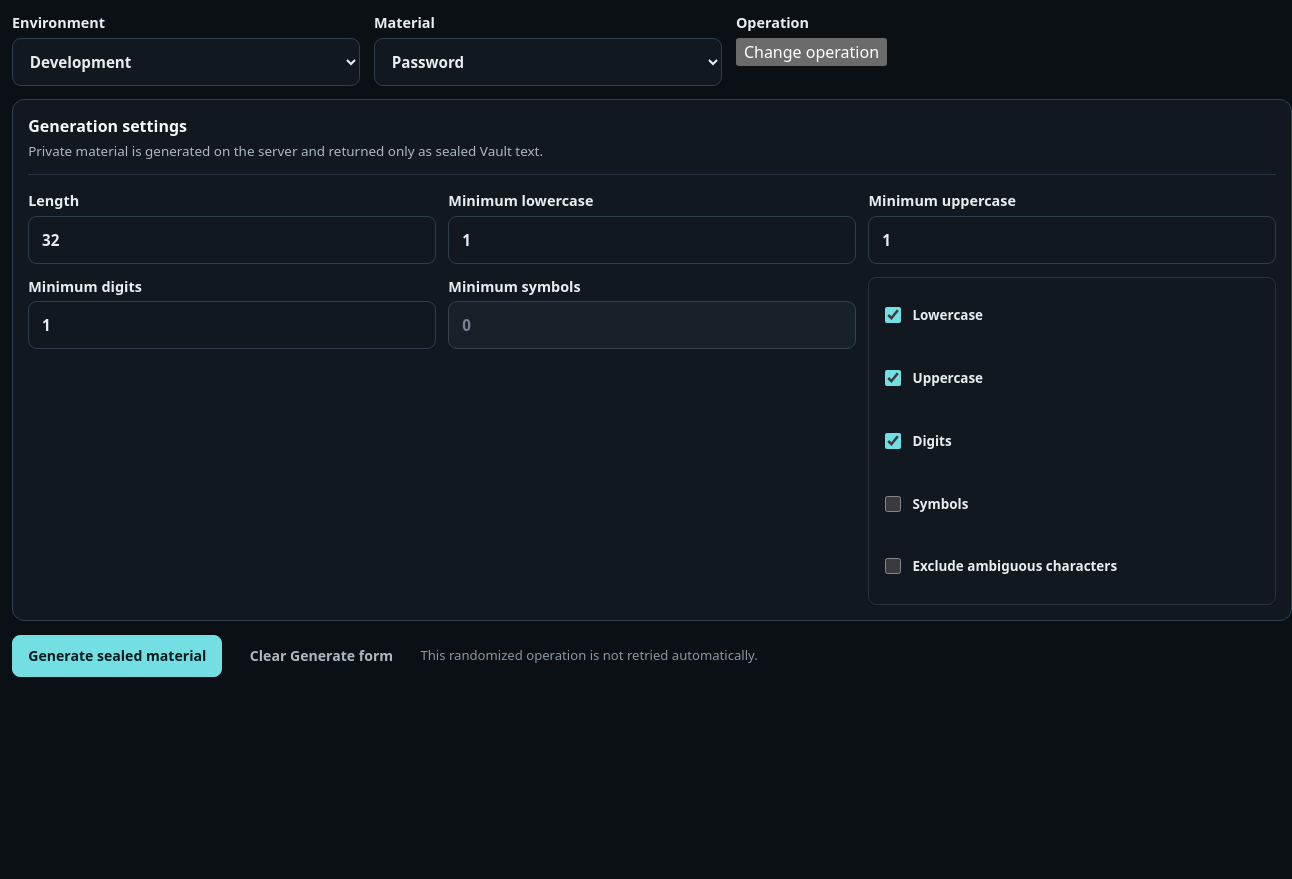
Test: Generate workbench › copies only the sealed password value as an Ansible snippet
Expected: the field labelled "Ansible variable name" is not shown
Step 1. Select "Password" in the dropdown labelled "Material" → (548, 62), box x1=374 y1=38 x2=722 y2=86
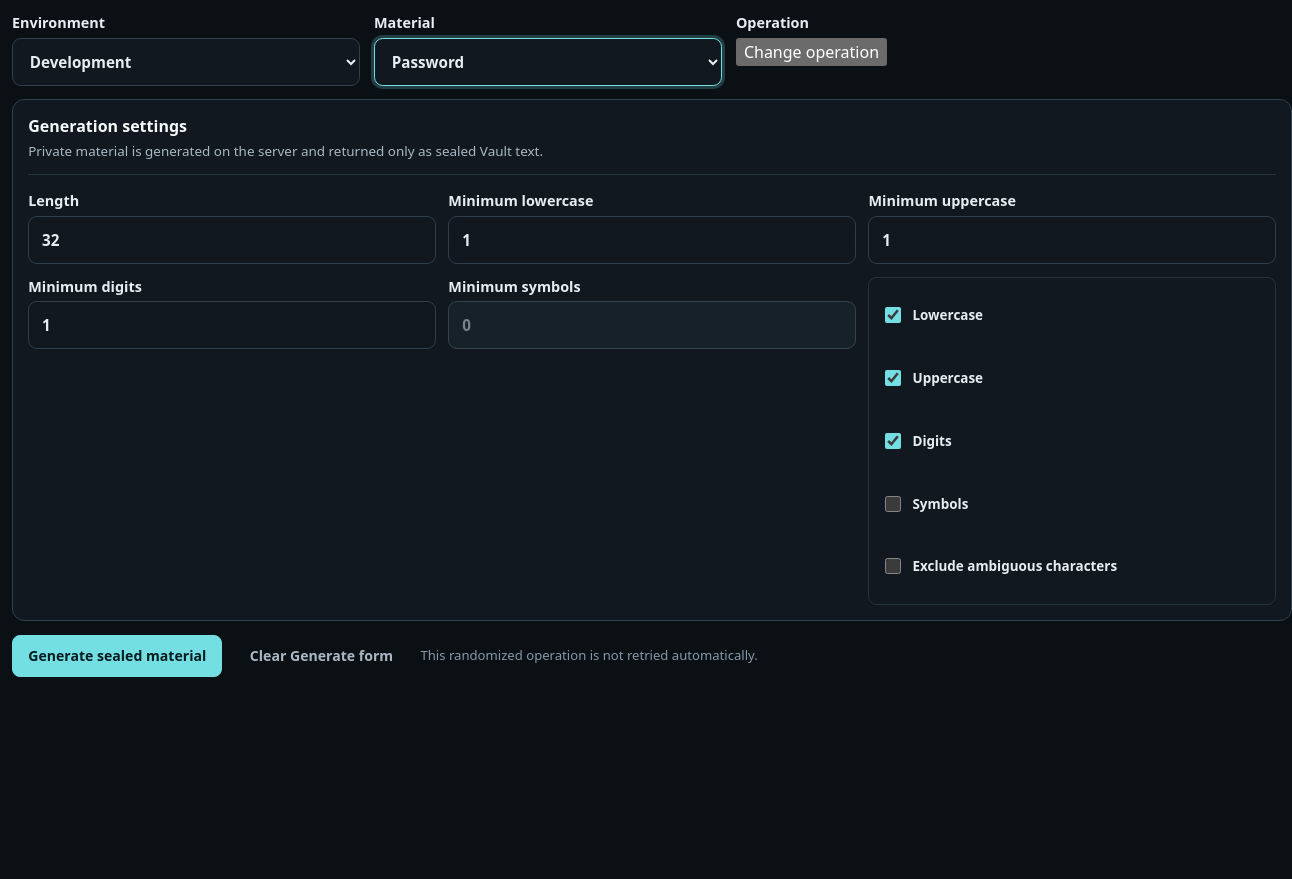
Step 2. Click the button "Generate sealed material" → click(117, 656), box x1=12 y1=635 x2=222 y2=677
(page scrolled)
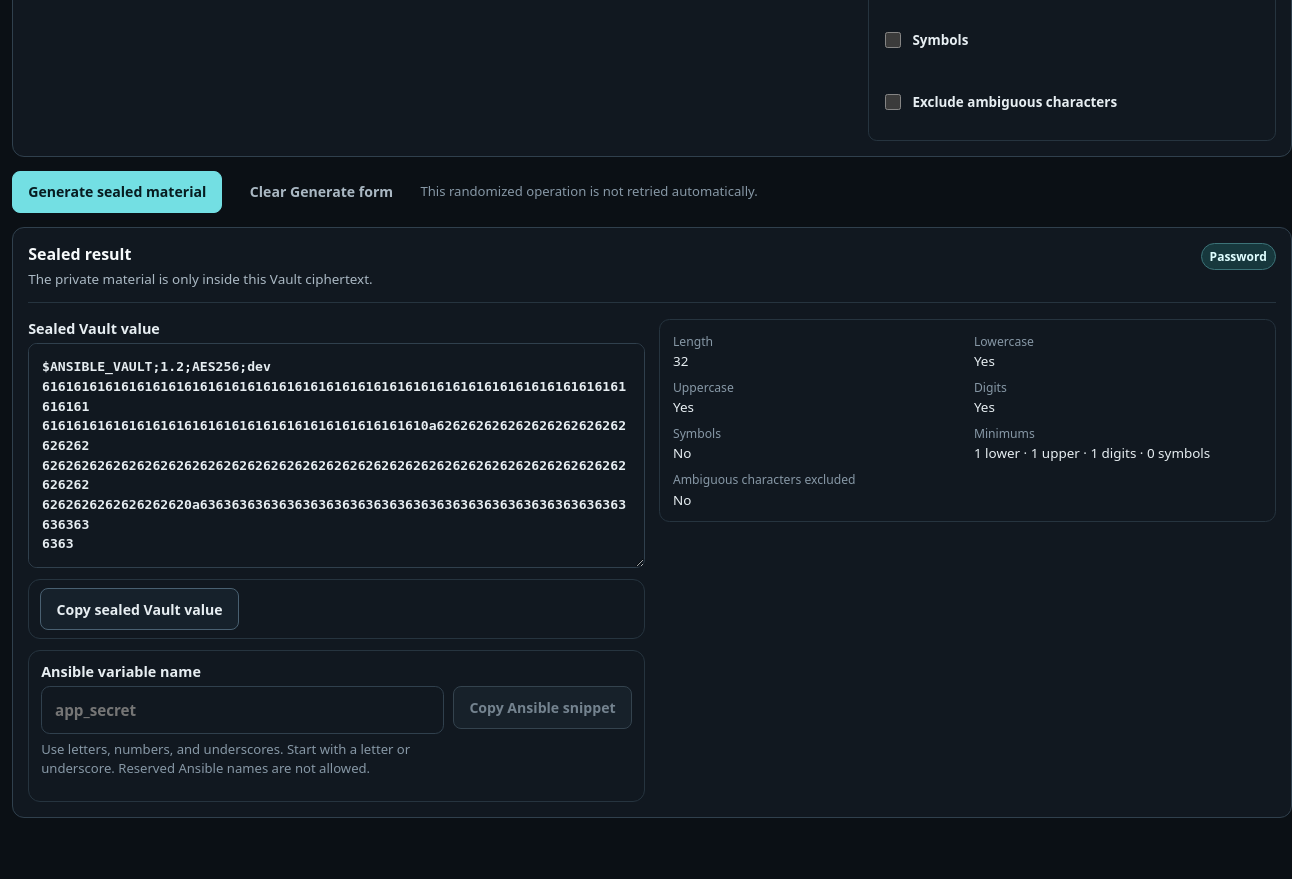
Expected: the button "Copy Ansible snippet" is disabled, x1=453 y1=686 x2=632 y2=729
Step 3. Type "yes" into the field labelled "Ansible variable name" → (242, 710), box x1=41 y1=686 x2=444 y2=734
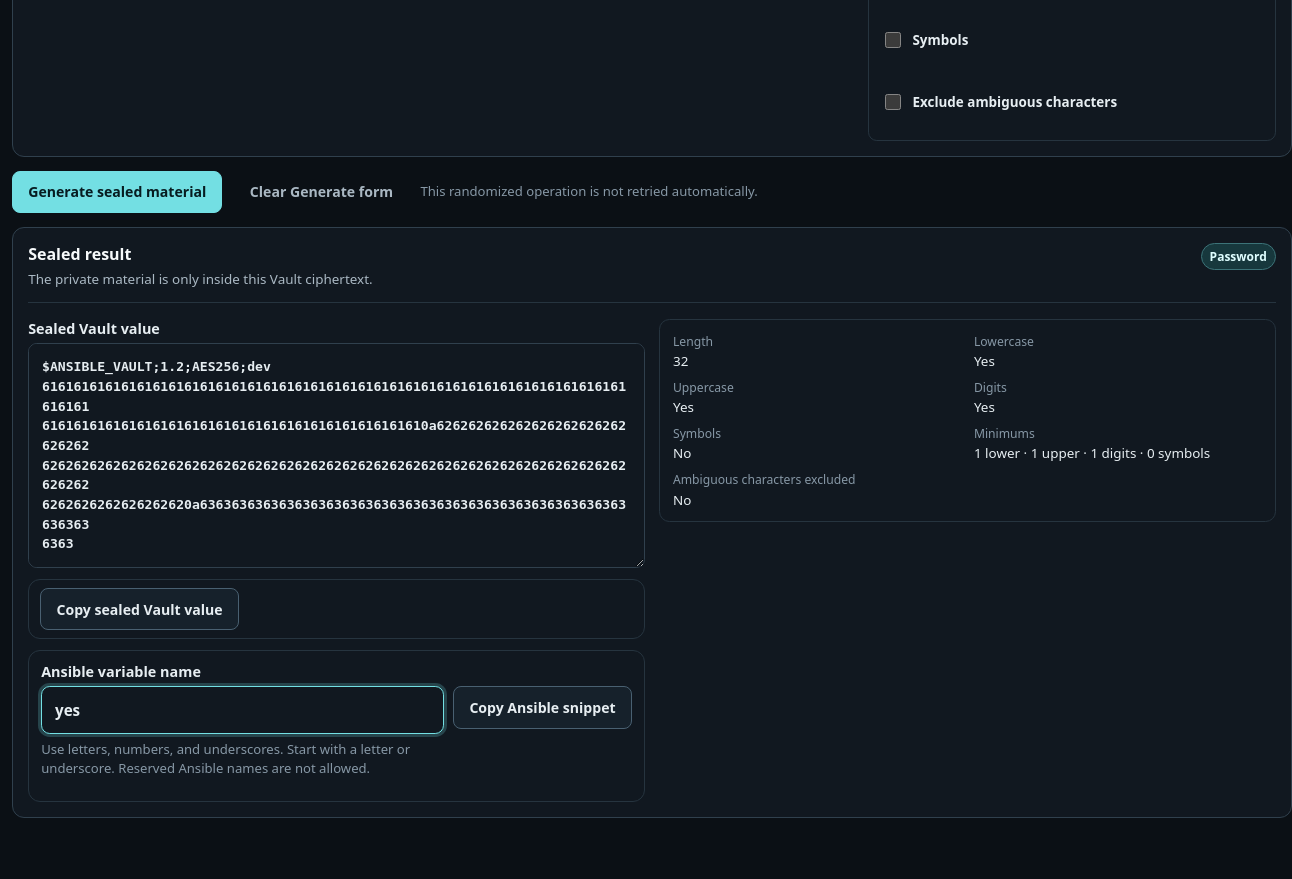
Step 4. Press Enter
Step 5. Click the button "Copy Ansible snippet" → click(542, 708), box x1=453 y1=686 x2=632 y2=729
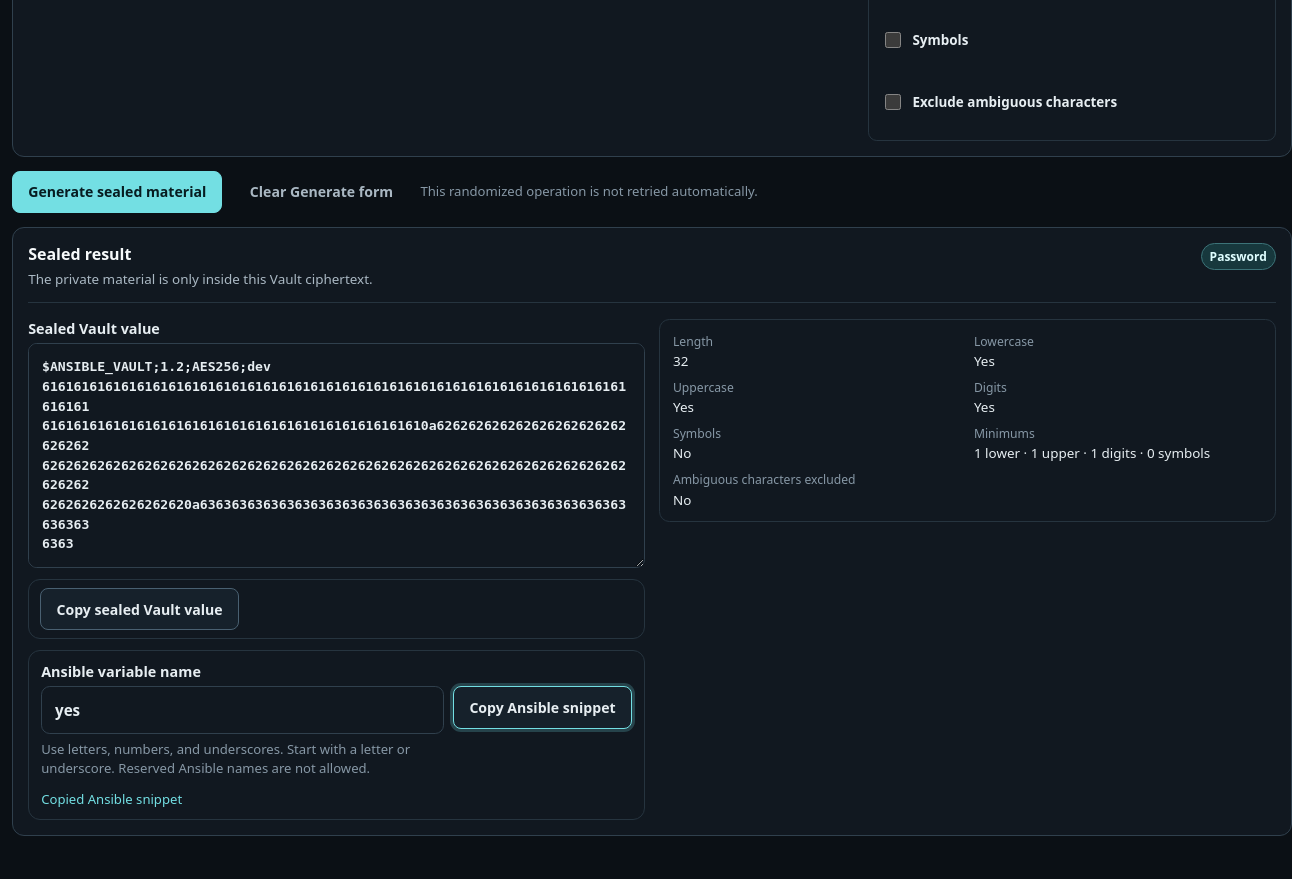
Expected: the text "Copied Ansible snippet" is shown, x1=41 y1=790 x2=182 y2=808
